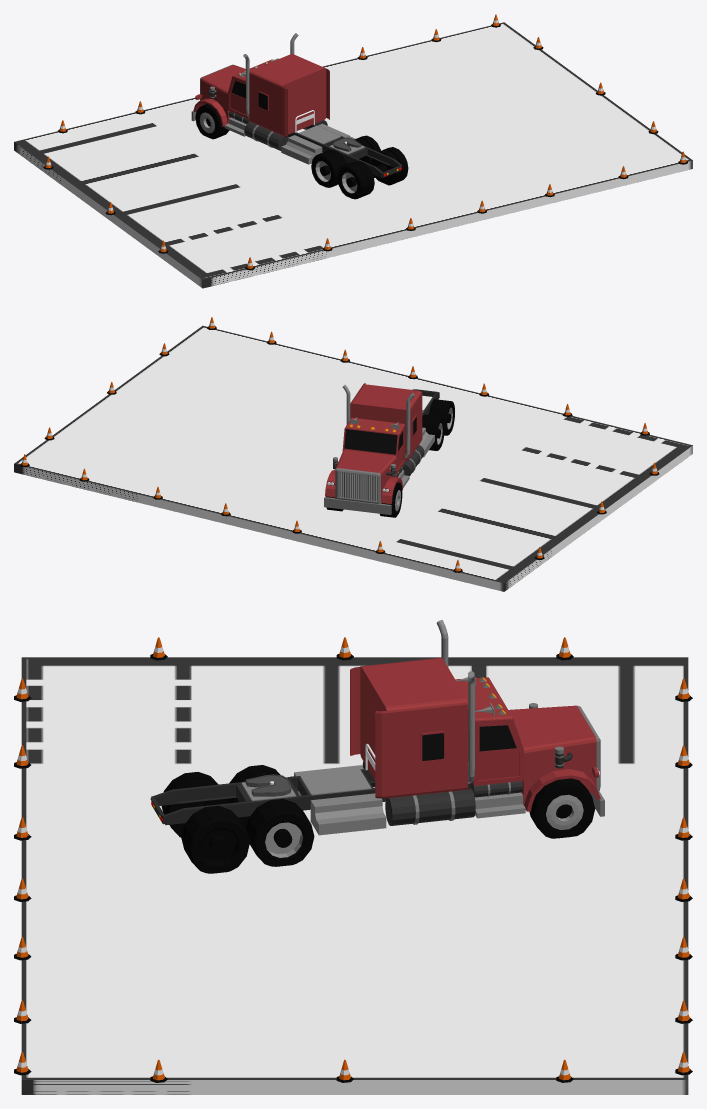
Rendered from lvl12.glb.
The picture shows the model from 3 angles, top to bottom: view 1: azimuth 30°, elevation 25°; view 2: azimuth 150°, elevation 25°; view 3: azimuth 270°, elevation 25°; orthographic projection. The views are drawn at different scales.
Parts seen in each view (by area): view 1: Ground, Truck_1, Back_Tires_2_2, Back_Tires_1_3, Front_Tires_0; view 2: Ground, Truck_1, Back_Tires_2_2, Back_Tires_1_3; view 3: Ground, Truck_1, Back_Tires_2_2, Back_Tires_1_3, Front_Tires_0.
Boxes of the visible parts, x1,y1,x2,y2 form: Ground: [14, 22, 692, 288]; Truck_1: [191, 33, 402, 177]; Back_Tires_2_2: [337, 147, 408, 199]; Back_Tires_1_3: [311, 135, 380, 187]; Front_Tires_0: [195, 104, 229, 139]; Ground: [14, 325, 692, 591]; Truck_1: [324, 383, 439, 514]; Back_Tires_2_2: [428, 399, 454, 435]; Back_Tires_1_3: [422, 414, 444, 450]; Ground: [21, 657, 688, 1094]; Truck_1: [150, 620, 604, 835]; Back_Tires_2_2: [161, 772, 249, 873]; Back_Tires_1_3: [227, 765, 314, 866]; Front_Tires_0: [529, 778, 595, 838].
Size of what is drawn, in the model's own units: 61.07 by 12.67 by 40.74.
Materials: 24 (1 with a texture image).
